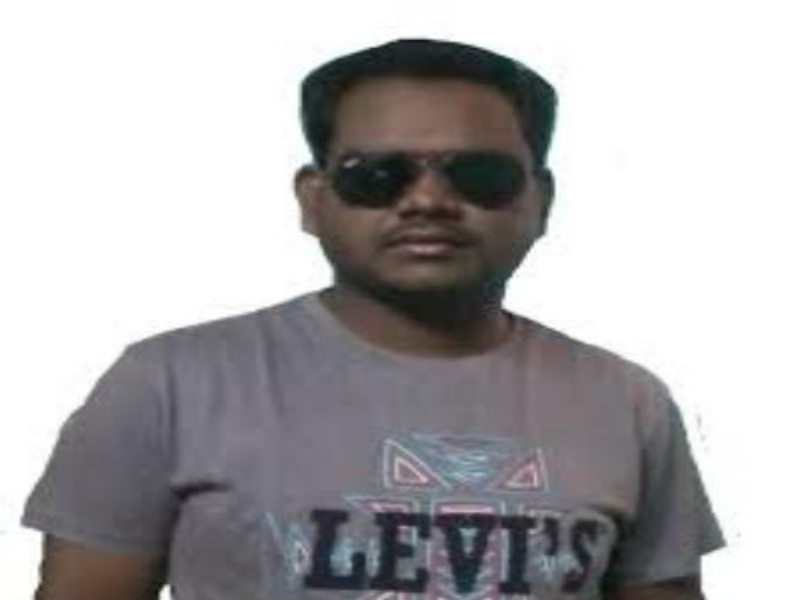TsisyArotava: (278, 41, 577, 312)
